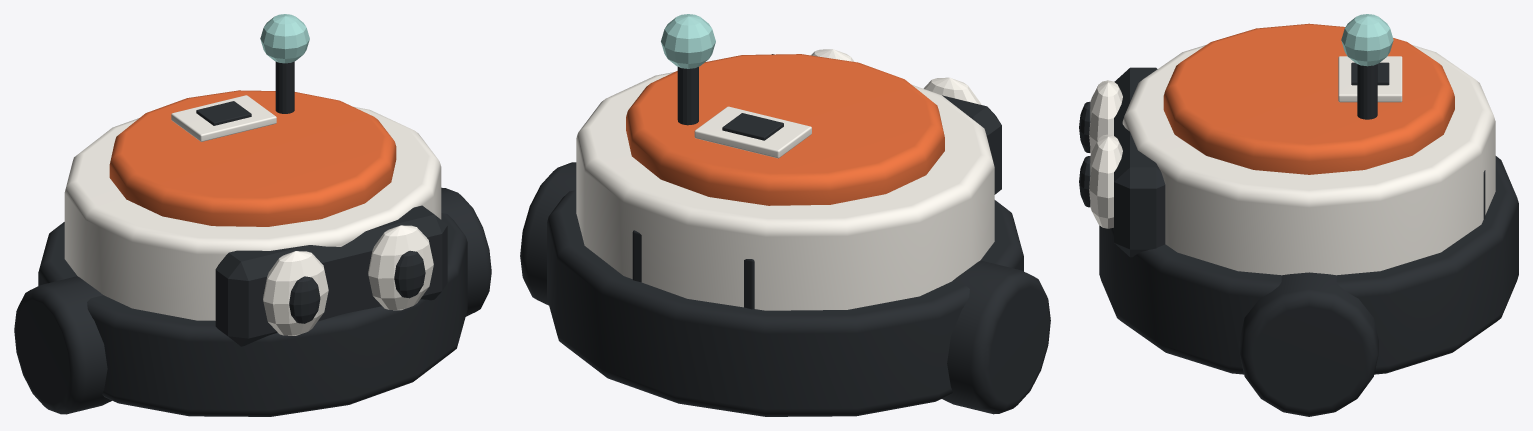
The model's file is robot.glb.
The picture shows the model from 3 angles, left to right: view 1: azimuth 30°, elevation 25°; view 2: azimuth 150°, elevation 25°; view 3: azimuth 270°, elevation 25°; orthographic projection. The views are drawn at different scales.
Visible parts, largest first — view 1: antenna.001, body.001, cap.001, antenna_tip.001; view 2: antenna.001, body.001, cap.001, antenna_tip.001; view 3: antenna.001, body.001, cap.001, antenna_tip.001.
Boxes of the visible parts, <box> form: antenna.001: <box>14,61,491,416</box>; body.001: <box>64,95,441,335</box>; cap.001: <box>109,90,396,226</box>; antenna_tip.001: <box>260,14,309,63</box>; antenna.001: <box>520,54,1050,416</box>; body.001: <box>576,49,994,310</box>; cap.001: <box>626,54,944,205</box>; antenna_tip.001: <box>661,14,715,68</box>; antenna.001: <box>1079,62,1518,416</box>; body.001: <box>1089,45,1495,275</box>; cap.001: <box>1163,23,1454,174</box>; antenna_tip.001: <box>1341,14,1393,66</box>.
Size of the model in its own units: 1.76 by 1.24 by 1.51.
